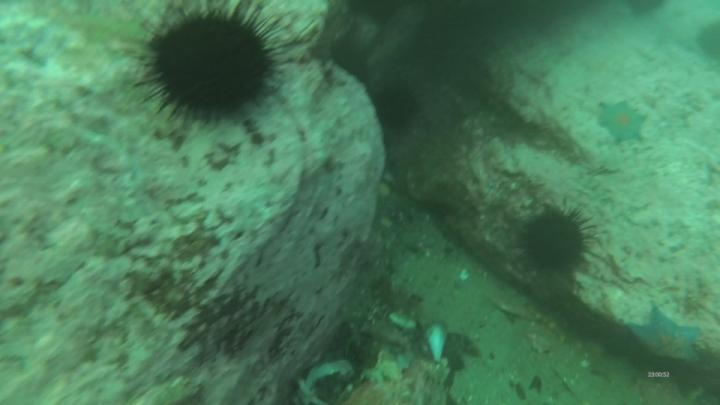scallop: (153, 15, 273, 116), (527, 210, 586, 272), (378, 85, 413, 134)
starfish: (627, 305, 701, 364), (597, 104, 648, 145)
